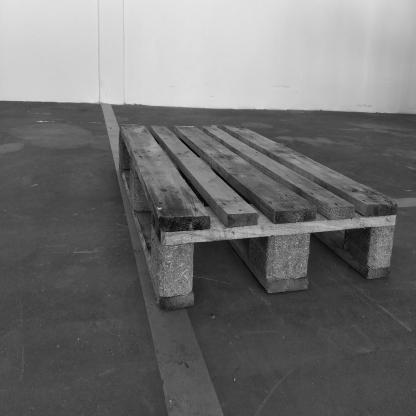BoxFace: (116, 119, 397, 315)
